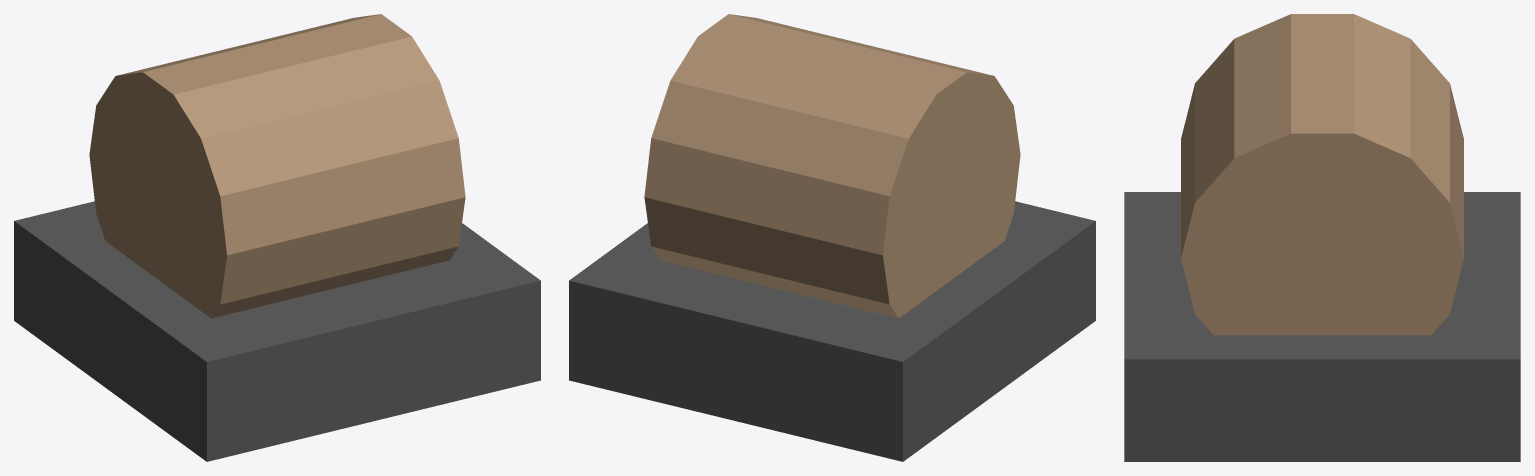
File: net_reel_cage.glb
3 renders of one model, left to right at view 1: azimuth 30°, elevation 25°; view 2: azimuth 150°, elevation 25°; view 3: azimuth 270°, elevation 25°, orthographic. The views are drawn at different scales.
Visible parts, largest first — view 1: reel, frame; view 2: reel, frame; view 3: reel, frame.
Part boxes in pixels (x1,y1,x2,y2): reel: [89, 14, 465, 318]; frame: [14, 201, 540, 461]; reel: [644, 14, 1020, 318]; frame: [569, 201, 1095, 461]; reel: [1181, 14, 1463, 335]; frame: [1124, 192, 1520, 461].
Size of the model in its own units: 1.4 by 1.19 by 1.4.
